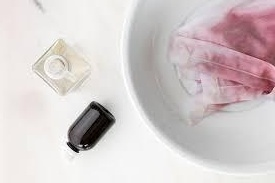wine: (181, 0, 274, 98)
